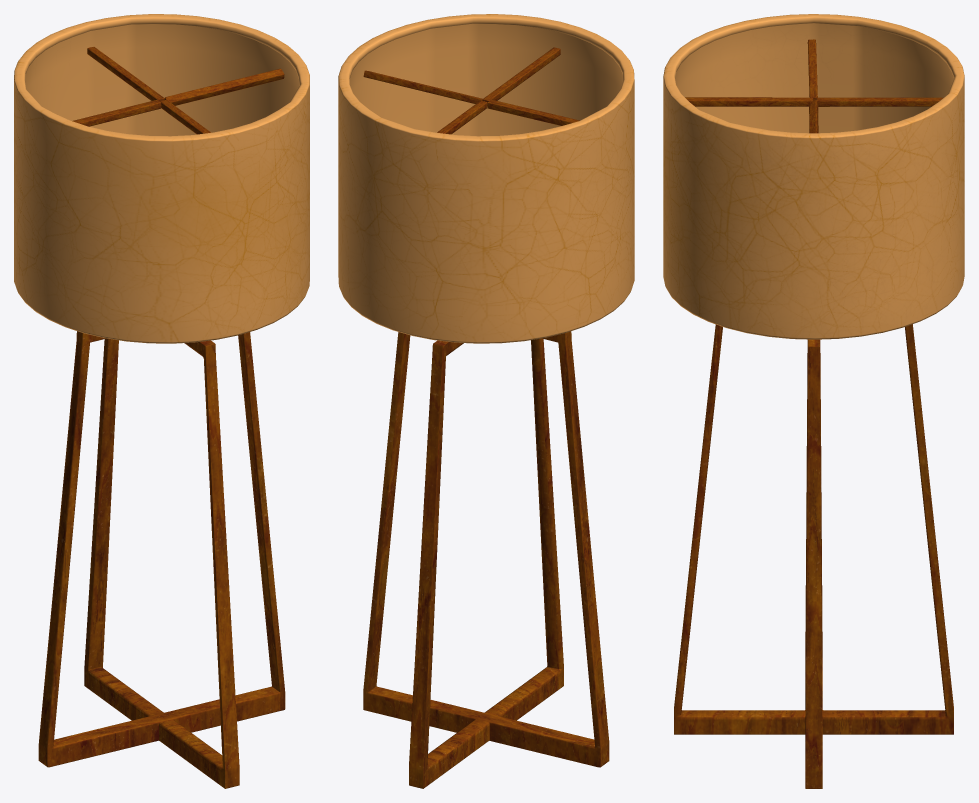
Rendered from lamp-pro.fbx.
3 views of the same model, side by side, from view 1: azimuth 30°, elevation 25°; view 2: azimuth 150°, elevation 25°; view 3: azimuth 270°, elevation 25° (orthographic).
Visible parts, largest first — view 1: polySurface11; view 2: polySurface11; view 3: polySurface11.
Boxes of the visible parts, box(x1,y1,x2,y2) form: polySurface11: box(14, 14, 309, 788); polySurface11: box(338, 14, 634, 788); polySurface11: box(663, 14, 964, 788).
Bounding box in the file's own units: 2.35 × 5.81 × 2.42.
Materials: 2 (2 with a texture image).
